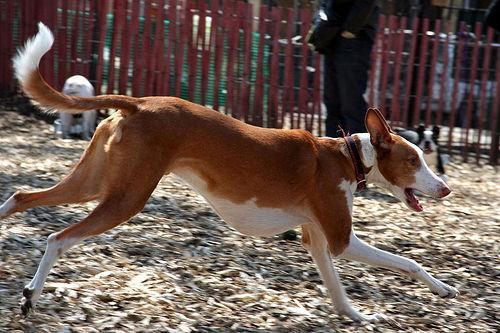Ibizan_hound: (4, 21, 464, 326)
